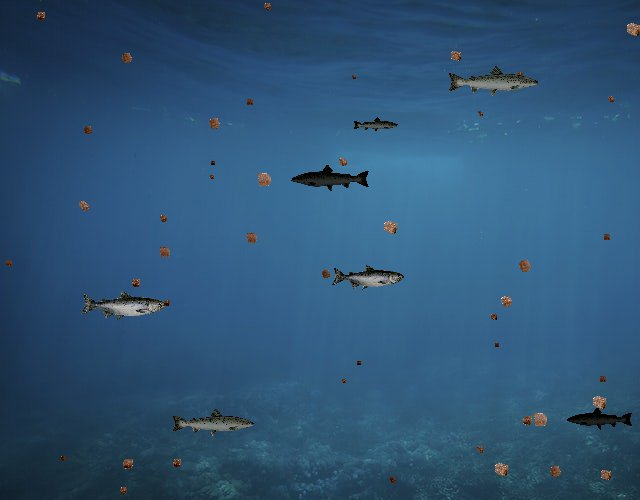Fish: (447, 64, 541, 98), (170, 407, 256, 438), (80, 290, 166, 321), (291, 164, 372, 193), (331, 264, 404, 291), (566, 407, 634, 431), (352, 117, 399, 134)
Pellet: (512, 253, 538, 279), (494, 289, 519, 314), (72, 195, 94, 217), (486, 310, 501, 324), (206, 172, 216, 182)
